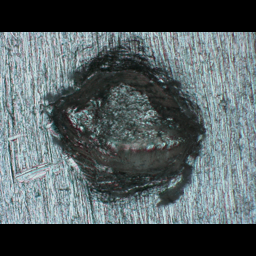d: (33, 34, 208, 213)
